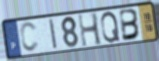8: (60, 15, 79, 49)
B: (119, 8, 142, 42)
C: (19, 20, 40, 53)
H: (77, 11, 104, 49)
I: (48, 17, 59, 51)
Q: (100, 10, 121, 44)
